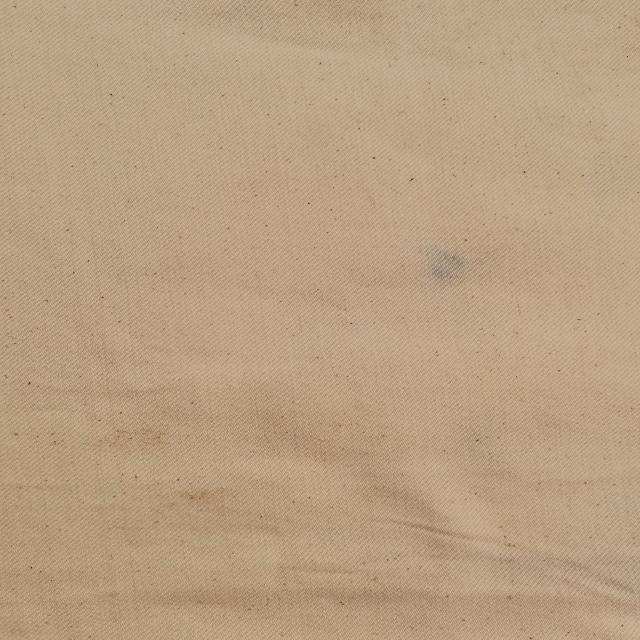taaaches: (390, 237, 506, 291), (94, 421, 180, 448), (169, 489, 223, 506)
